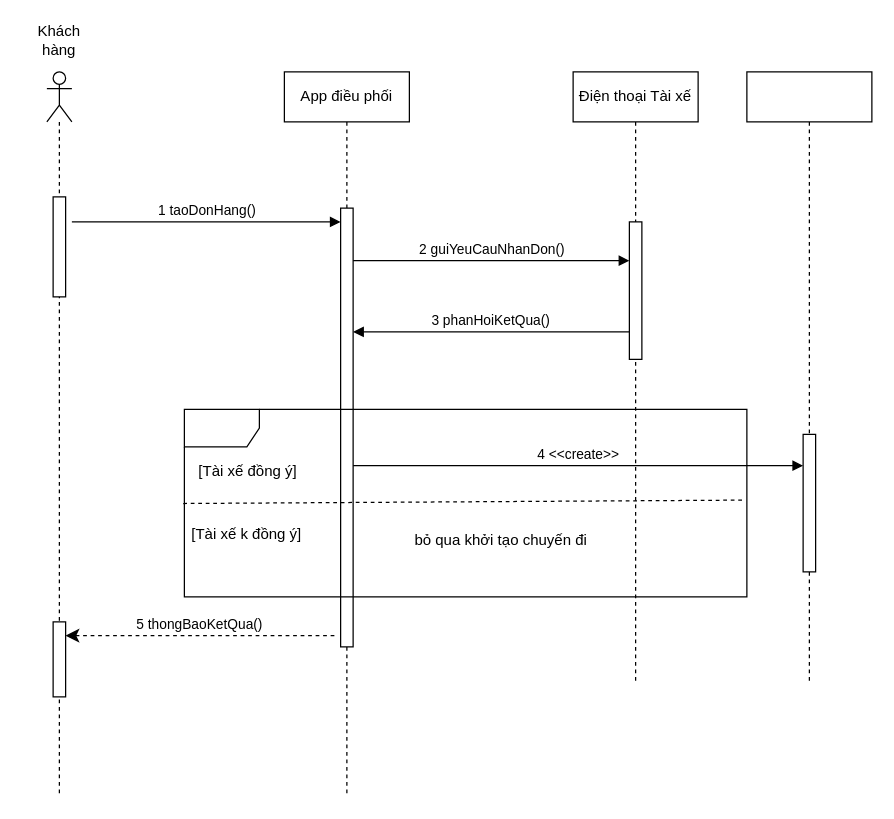
Some shapes in this 894 by 819 pixel diagram are drawn without their labels. The box of each missing label's shape, as (x1, y1, x2, y2) in pixels:
alt: (183, 408, 747, 597)
Chuyến Đi: (746, 71, 872, 684)
